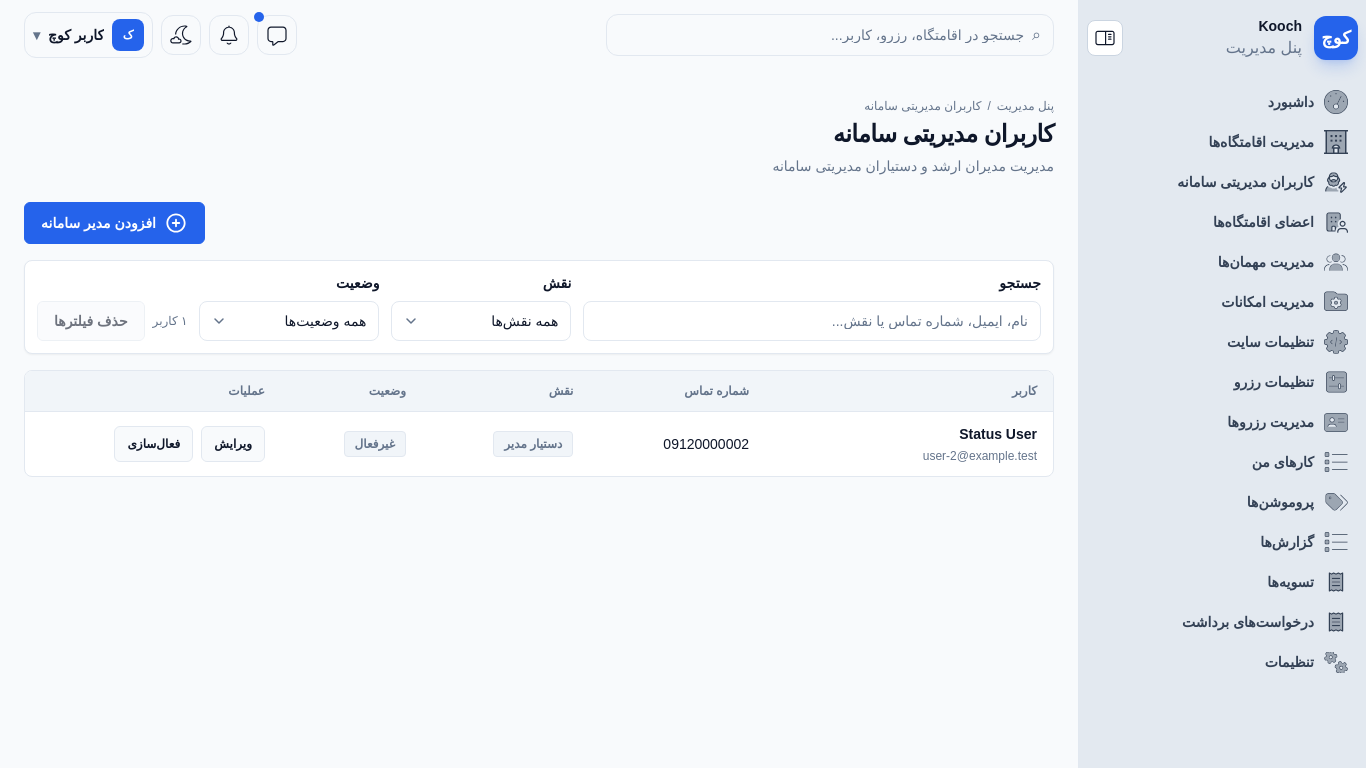
it: Admin Users page › activates and confirms deactivation without optimistic state drift
Click the button "فعال‌سازی" at (154, 444), box [114,426,193,462]
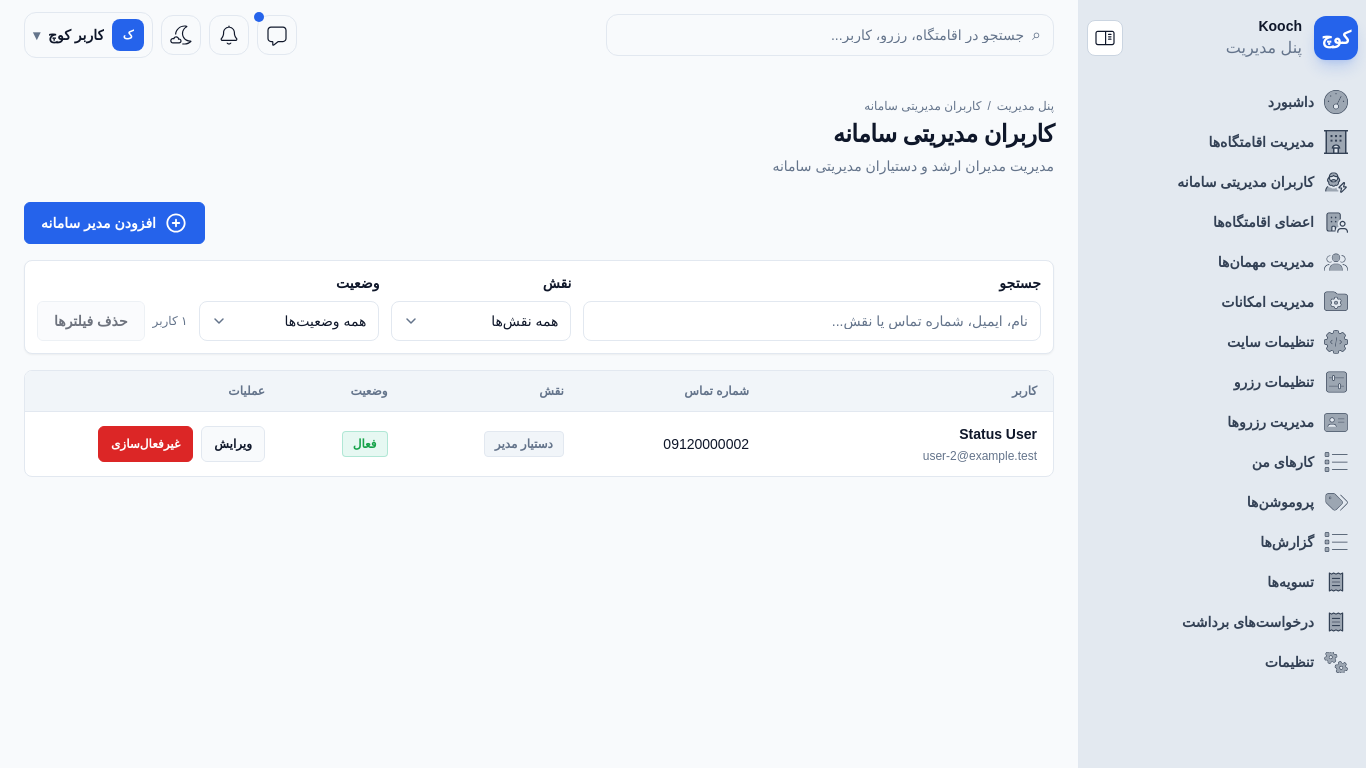
Expected: the text "فعال" is shown, [342,431,388,457]
Expected: the button "غیرفعال‌سازی" is shown
Click the button "غیرفعال‌سازی" at (146, 444), box [98,426,193,462]
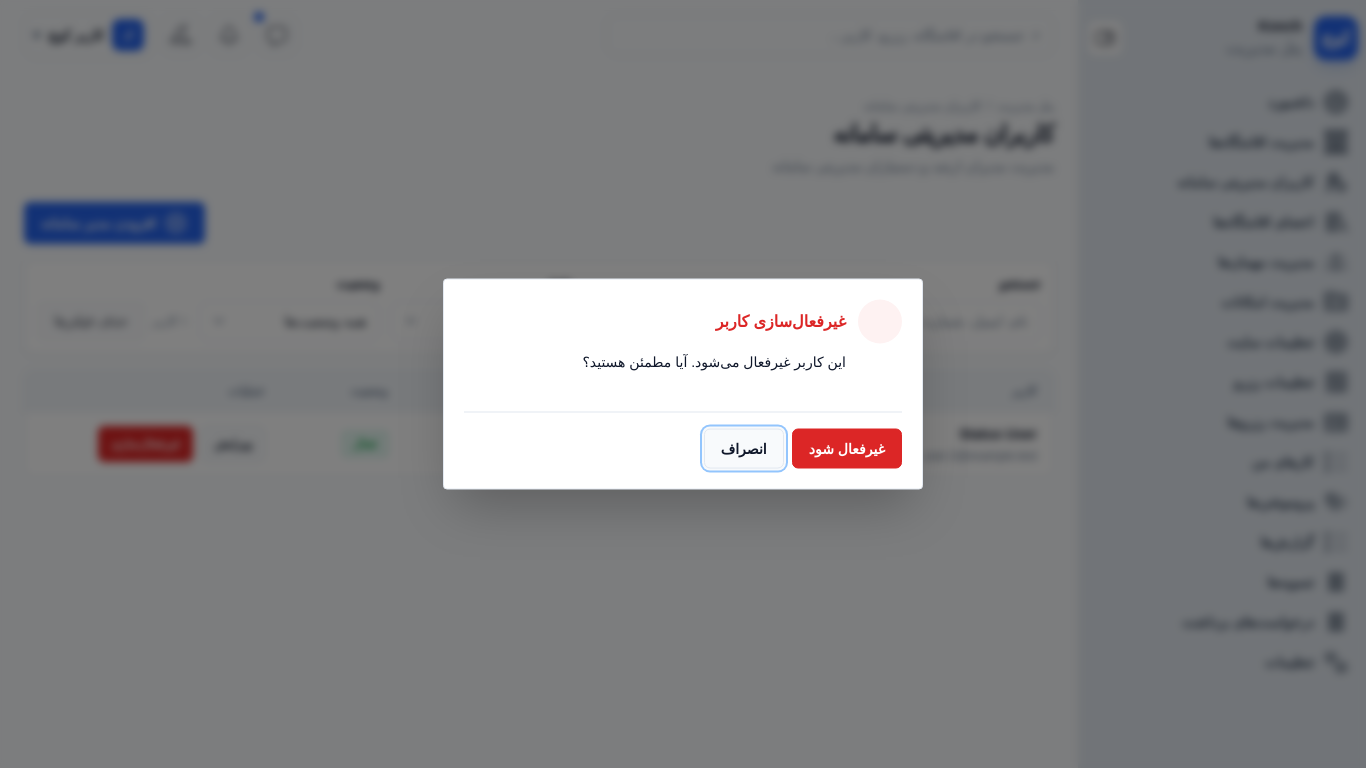
Click the button "غیرفعال شود" at (847, 448), box [792,428,902,468]
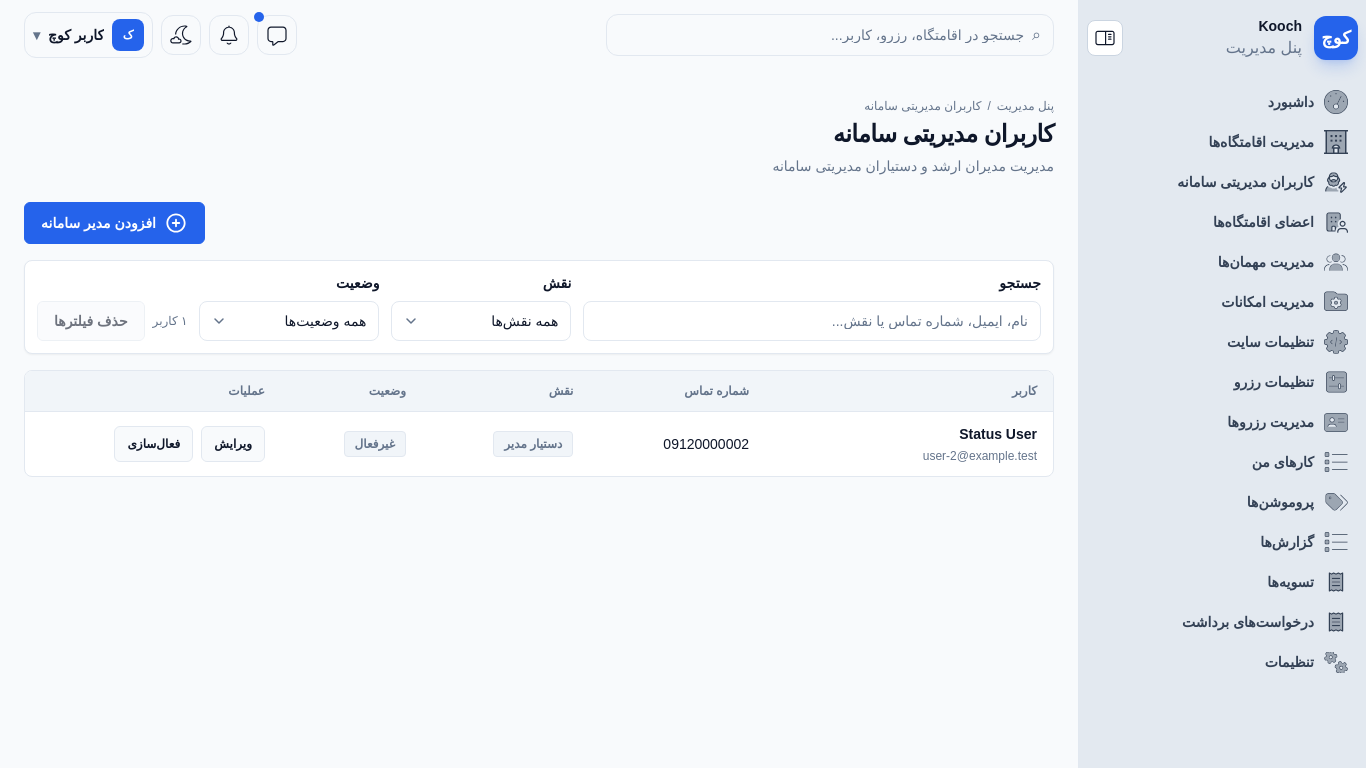
Expected: the text "غیرفعال" is shown, [344,431,406,457]
